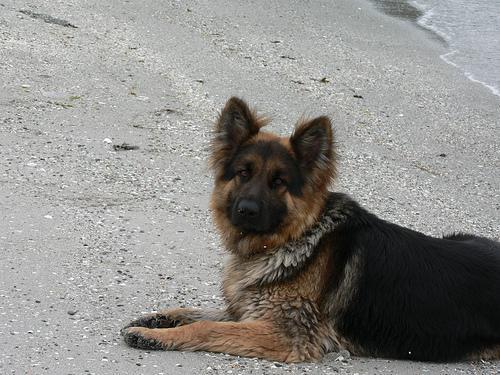German_shepherd: (120, 95, 499, 364)
